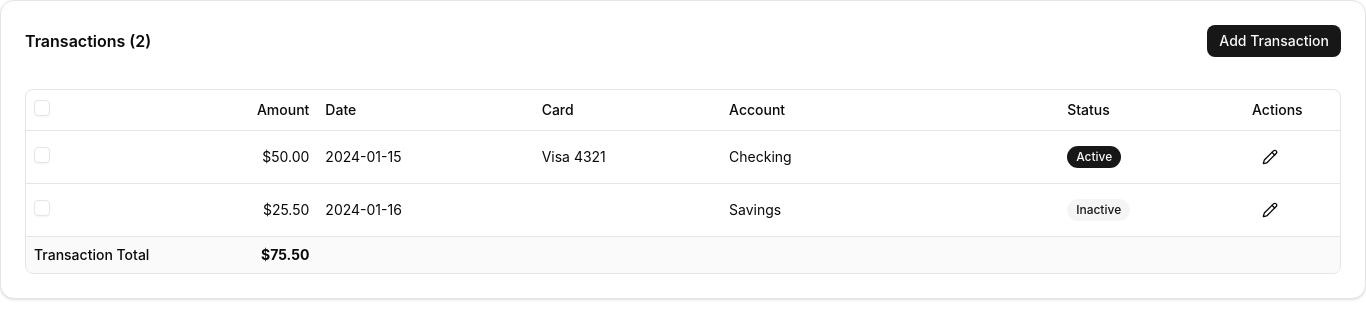
ReceiptTransactionsCard › select-all checkbox selects and deselects all transactions
The width and height of the screenshot is (1366, 317).
Click the checkbox named "Select all transactions". click: [42, 108]
box: [34, 100, 50, 116]
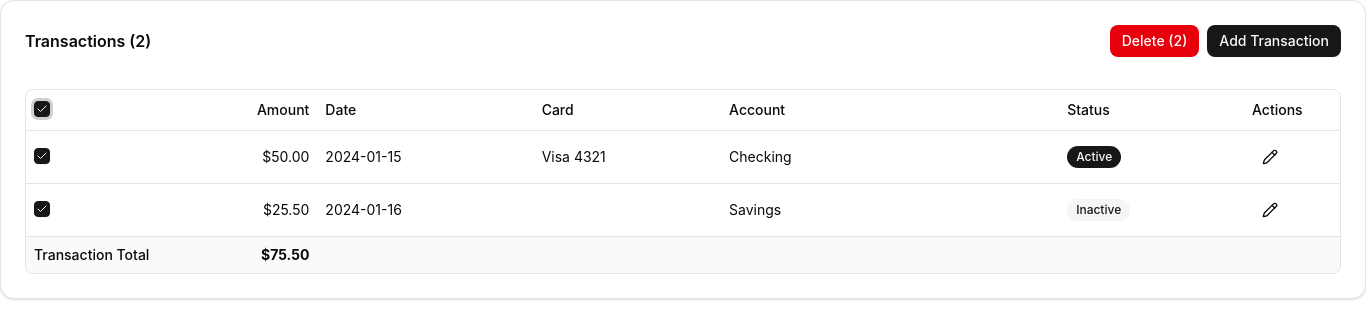
Result: the checkbox named "Select all transactions" is checked
Result: the checkbox named "Select Checking transaction" is checked at [34, 148, 50, 164]
Result: the checkbox named "Select Savings transaction" is checked at [34, 200, 50, 216]
Click the checkbox named "Select all transactions". click: [42, 109]
box: [34, 101, 50, 117]
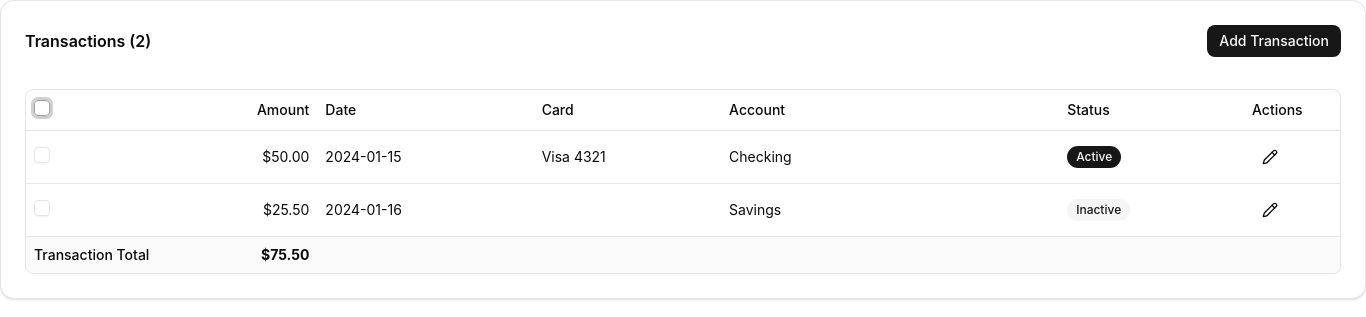
Result: the checkbox named "Select all transactions" is not checked at [34, 100, 50, 116]
Result: the checkbox named "Select Checking transaction" is not checked at [34, 146, 50, 162]
Result: the checkbox named "Select Savings transaction" is not checked at [34, 200, 50, 216]
